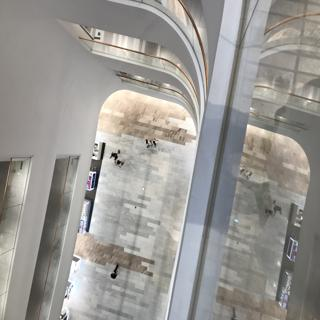person: (107, 257, 126, 285), (106, 144, 121, 159)
